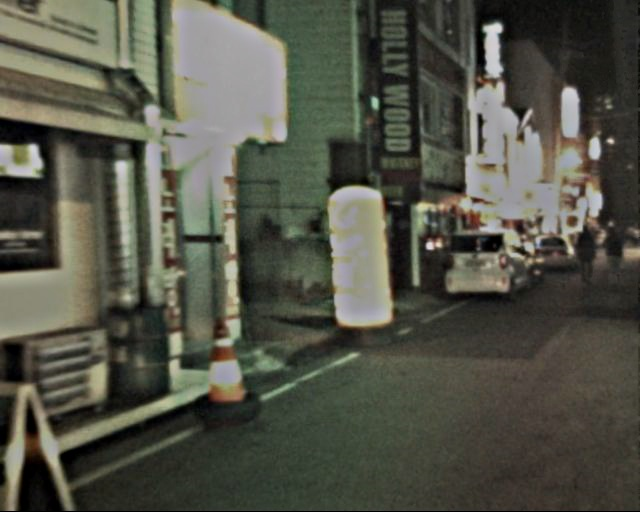person: (574, 226, 608, 292), (601, 227, 633, 294)
